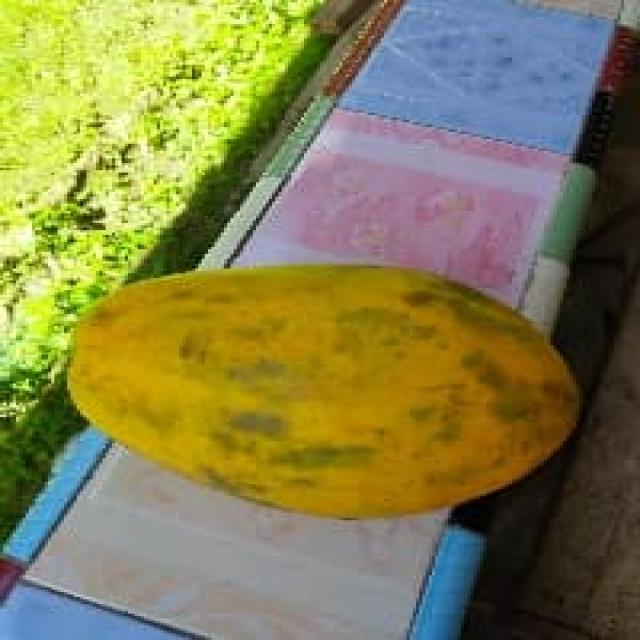Pepaya: (67, 259, 586, 520)
